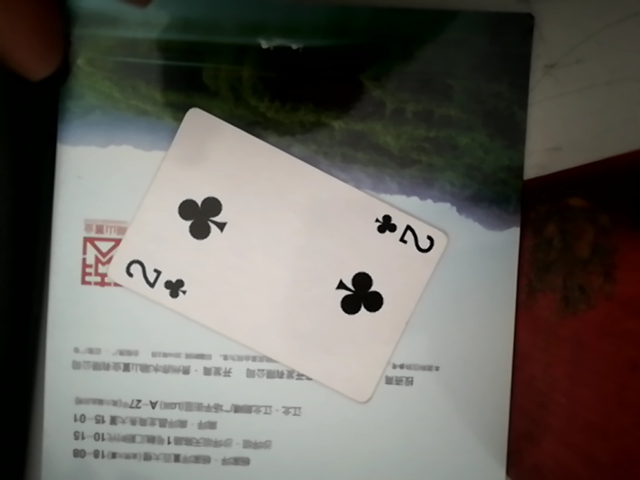mh 2: (56, 109, 460, 386)
